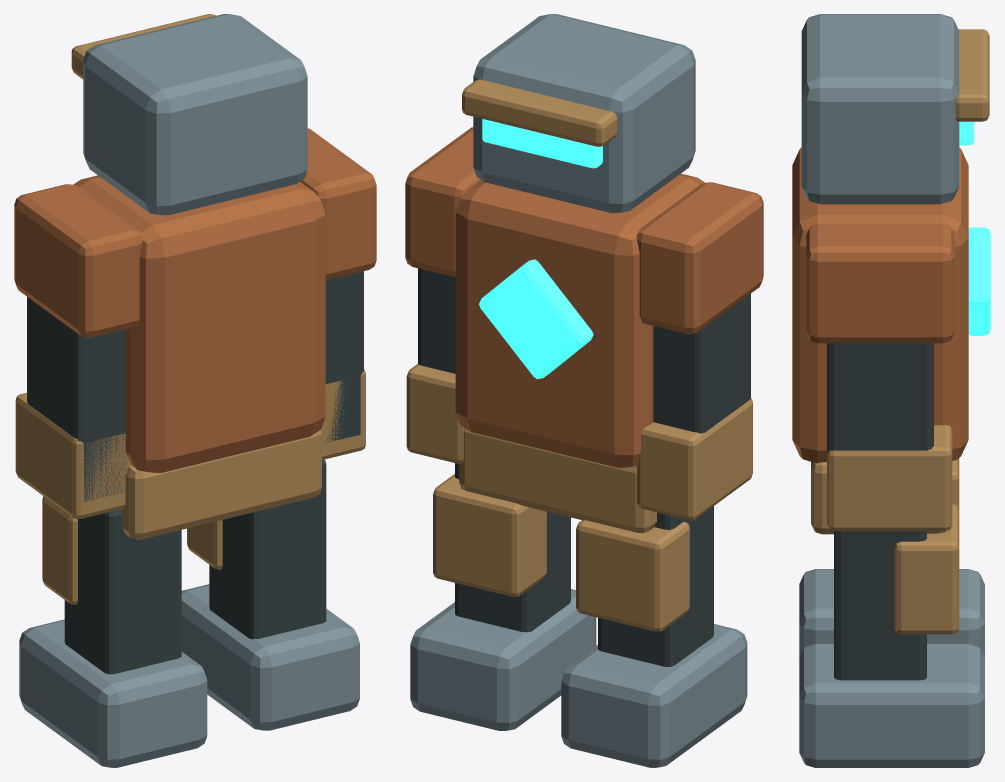
File: guardian.glb
The picture shows the model from 3 angles, left to right: view 1: azimuth 30°, elevation 25°; view 2: azimuth 150°, elevation 25°; view 3: azimuth 270°, elevation 25°; orthographic projection.
Visible parts, largest first — view 1: GEO-guardian-torso, GEO-guardian-head, GEO-guardian-foot--1, GEO-guardian-foot-1, GEO-guardian-shoulder--1, GEO-guardian-leg--1, GEO-guardian-leg-1, GEO-guardian-arm--1, GEO-guardian-hip, GEO-guardian-fist--1, GEO-guardian-shoulder-1, GEO-guardian-arm-1 (+4 smaller); view 2: GEO-guardian-torso, GEO-guardian-head, GEO-guardian-foot--1, GEO-guardian-foot-1, GEO-guardian-shoulder--1, GEO-guardian-hip, GEO-guardian-knee--1, GEO-guardian-knee-1, GEO-guardian-arm--1, GEO-guardian-fist--1, GEO-guardian-chest-seal, GEO-guardian-shoulder-1 (+6 smaller); view 3: GEO-guardian-head, GEO-guardian-foot-1, GEO-guardian-shoulder-1, GEO-guardian-torso, GEO-guardian-arm-1, GEO-guardian-leg-1, GEO-guardian-fist-1, GEO-guardian-knee-1, GEO-guardian-foot--1, GEO-guardian-brow, GEO-guardian-chest-seal, GEO-guardian-hip (+2 smaller).
Boxes of the visible parts, <box> form: GEO-guardian-torso: <box>73,175,325,472</box>; GEO-guardian-head: <box>83,14,307,215</box>; GEO-guardian-foot--1: <box>19,619,207,767</box>; GEO-guardian-foot-1: <box>181,584,359,730</box>; GEO-guardian-shoulder--1: <box>14,184,142,337</box>; GEO-guardian-leg--1: <box>64,509,181,674</box>; GEO-guardian-leg-1: <box>209,459,326,639</box>; GEO-guardian-arm--1: <box>27,297,127,501</box>; GEO-guardian-hip: <box>121,430,321,539</box>; GEO-guardian-fist--1: <box>15,392,130,518</box>; GEO-guardian-shoulder-1: <box>300,128,376,280</box>; GEO-guardian-arm-1: <box>325,271,363,442</box>; GEO-guardian-torso: <box>455,173,705,467</box>; GEO-guardian-head: <box>473,14,695,213</box>; GEO-guardian-foot--1: <box>561,624,747,767</box>; GEO-guardian-foot-1: <box>410,589,596,730</box>; GEO-guardian-shoulder--1: <box>636,182,763,333</box>; GEO-guardian-hip: <box>459,428,656,533</box>; GEO-guardian-knee--1: <box>576,520,689,631</box>; GEO-guardian-knee-1: <box>433,474,546,596</box>; GEO-guardian-arm--1: <box>653,294,750,433</box>; GEO-guardian-fist--1: <box>637,398,752,520</box>; GEO-guardian-chest-seal: <box>479,259,593,379</box>; GEO-guardian-shoulder-1: <box>405,127,480,277</box>; GEO-guardian-head: <box>801,14,959,204</box>; GEO-guardian-foot-1: <box>799,643,984,767</box>; GEO-guardian-shoulder-1: <box>806,224,954,343</box>; GEO-guardian-torso: <box>792,147,968,463</box>; GEO-guardian-arm-1: <box>827,343,933,451</box>; GEO-guardian-leg-1: <box>834,531,926,680</box>; GEO-guardian-fist-1: <box>827,425,952,531</box>; GEO-guardian-knee-1: <box>894,504,959,634</box>; GEO-guardian-foot--1: <box>799,569,984,658</box>; GEO-guardian-brow: <box>956,29,989,121</box>; GEO-guardian-chest-seal: <box>968,227,990,335</box>; GEO-guardian-hip: <box>811,462,945,534</box>.
Bounding box in the file's own units: 0.74 × 1.58 × 0.4275.
